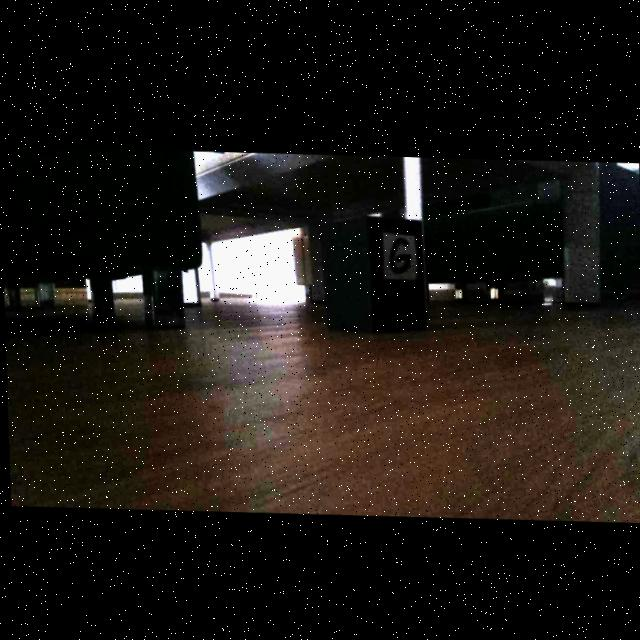G: (389, 234, 410, 270)
